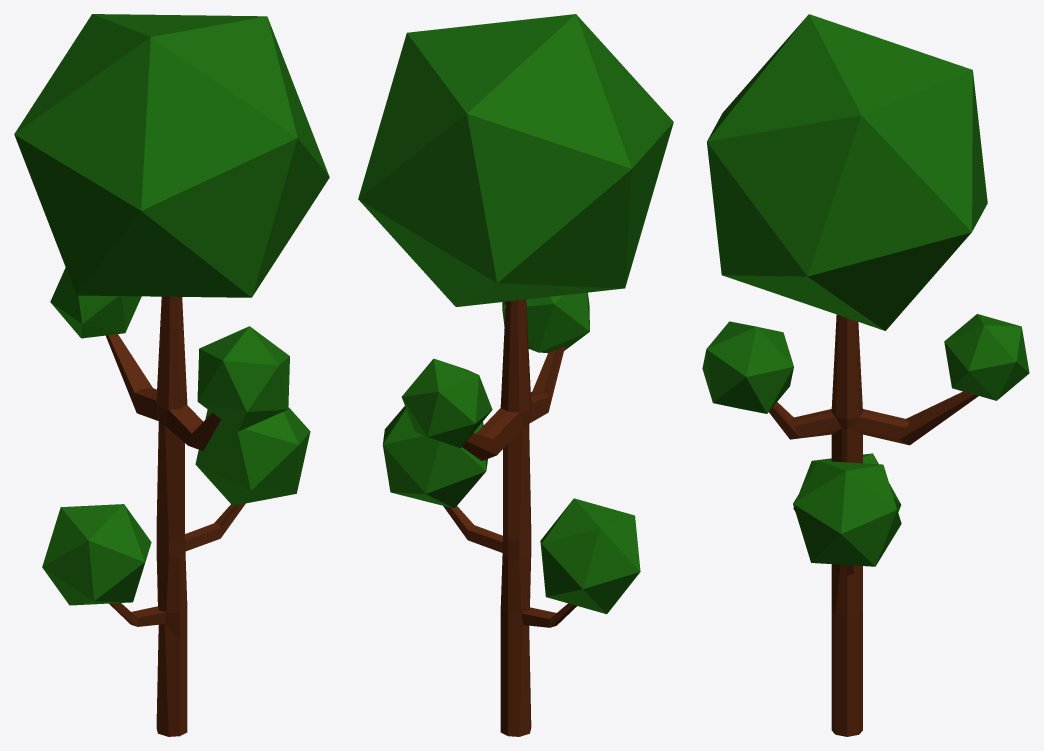
File: Tree_0.fbx
3 renders of one model, left to right at view 1: azimuth 30°, elevation 25°; view 2: azimuth 150°, elevation 25°; view 3: azimuth 270°, elevation 25°, orthographic. The views are drawn at different scales.
Parts seen in each view (by area): view 1: Leaf.004, Tree, Leaf.001, Leaf, Leaf.002, Leaf.003; view 2: Leaf.004, Tree, Leaf.001, Leaf, Leaf.003, Leaf.002; view 3: Leaf.004, Tree, Leaf, Leaf.002, Leaf.003.
Part boxes in pixels (x1,y1,x2,y2): Leaf.004: (14,14,329,297); Tree: (106,296,245,736); Leaf.001: (42,504,151,605); Leaf: (195,407,310,505); Leaf.002: (197,326,289,431); Leaf.003: (50,267,141,338); Leaf.004: (358,14,673,306); Tree: (443,299,576,736); Leaf.001: (540,498,640,614); Leaf: (382,406,487,508); Leaf.003: (401,358,492,447); Leaf.002: (502,292,589,353); Leaf.004: (707,14,987,330); Tree: (769,314,978,736); Leaf: (793,460,901,566); Leaf.002: (702,321,793,413); Leaf.003: (944,314,1029,400).
Size of the model in its own units: 164 by 409 by 174.
